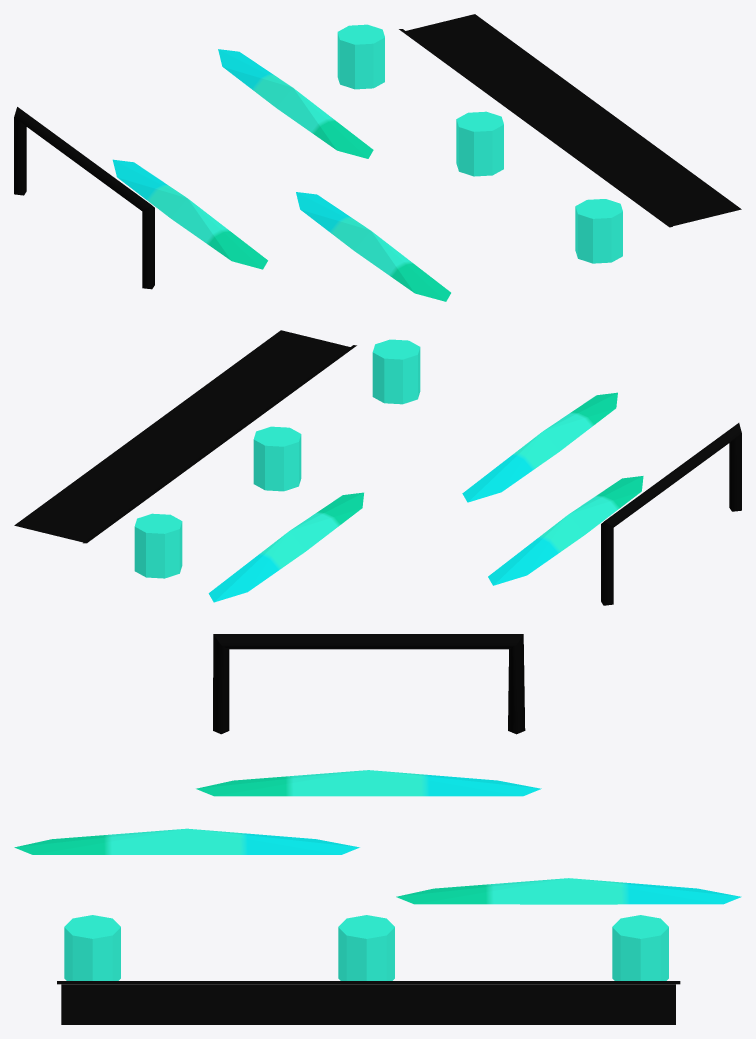
File: track_edge_meta.glb
3 views of the same model, one above another, from view 1: azimuth 30°, elevation 25°; view 2: azimuth 150°, elevation 25°; view 3: azimuth 270°, elevation 25° (orthographic). The views are drawn at different scales.
Parts seen in each view (by area): view 1: handrails; view 2: handrails; view 3: handrails.
Part boxes in pixels (x1,y1,x2,y2): handrails: (14, 14, 741, 301); handrails: (14, 330, 741, 605); handrails: (14, 634, 741, 1024).
Size of the model in its own units: 1.97 by 0.3783 by 2.04.
Materials: 3 (2 with a texture image).
